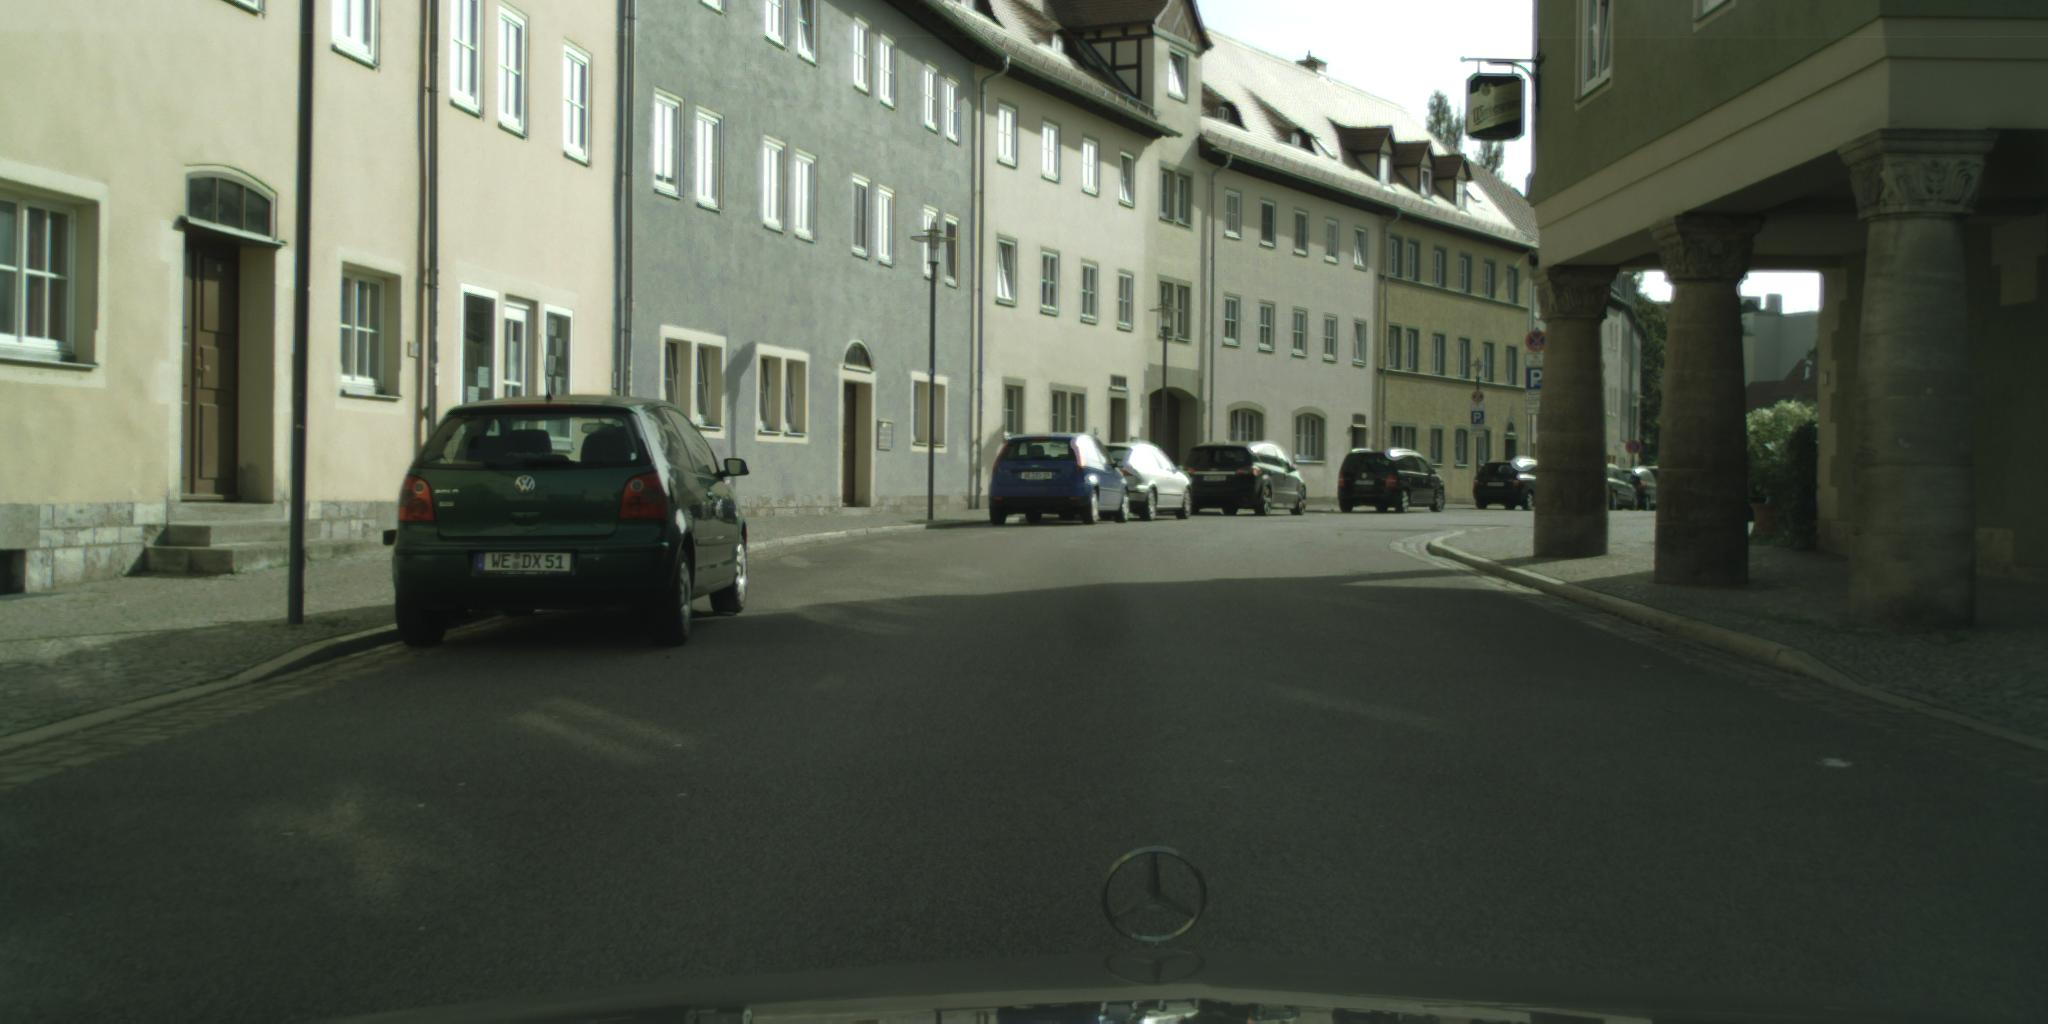car: (392, 394, 751, 650), (989, 434, 1132, 528), (1070, 443, 1195, 522), (1178, 441, 1307, 519), (1337, 448, 1446, 515), (1473, 458, 1539, 513), (1620, 468, 1657, 512), (1608, 462, 1640, 512), (1639, 468, 1659, 499)
